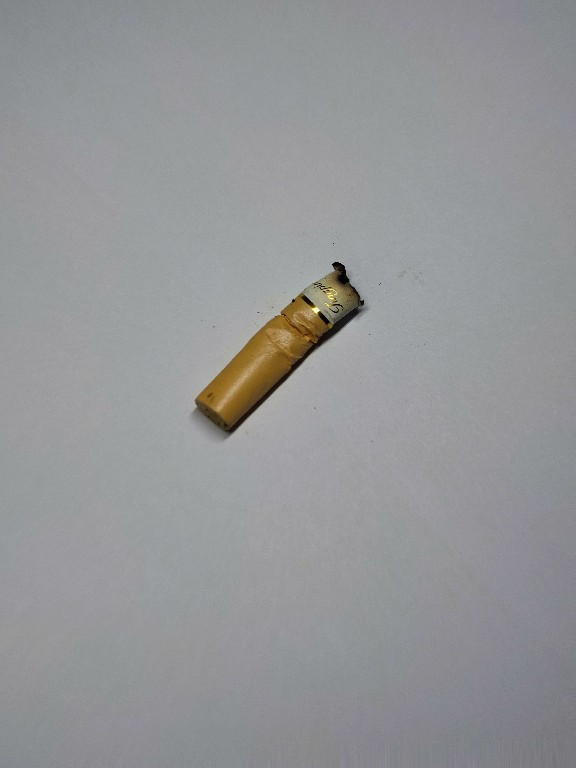cigarette: (190, 257, 372, 437)
